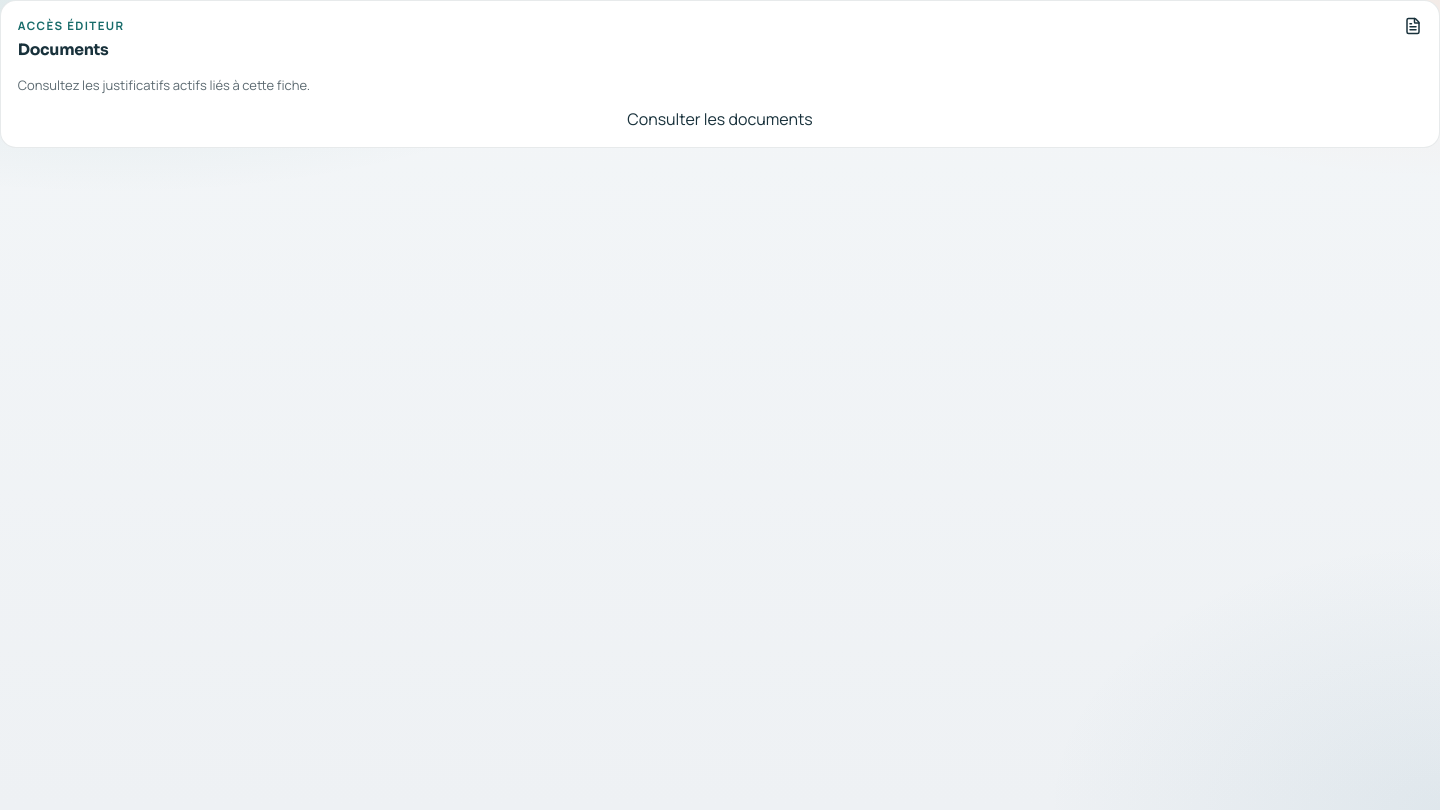
Test: ObjectDocumentsCard › affiche seulement après le verdict objet, puis charge la modale et ferme avec Échap
The width and height of the screenshot is (1440, 810).
Later steps or results of the test are not shown.
Click the button "Consulter les documents" at (720, 119), box [18,107,1422,131]
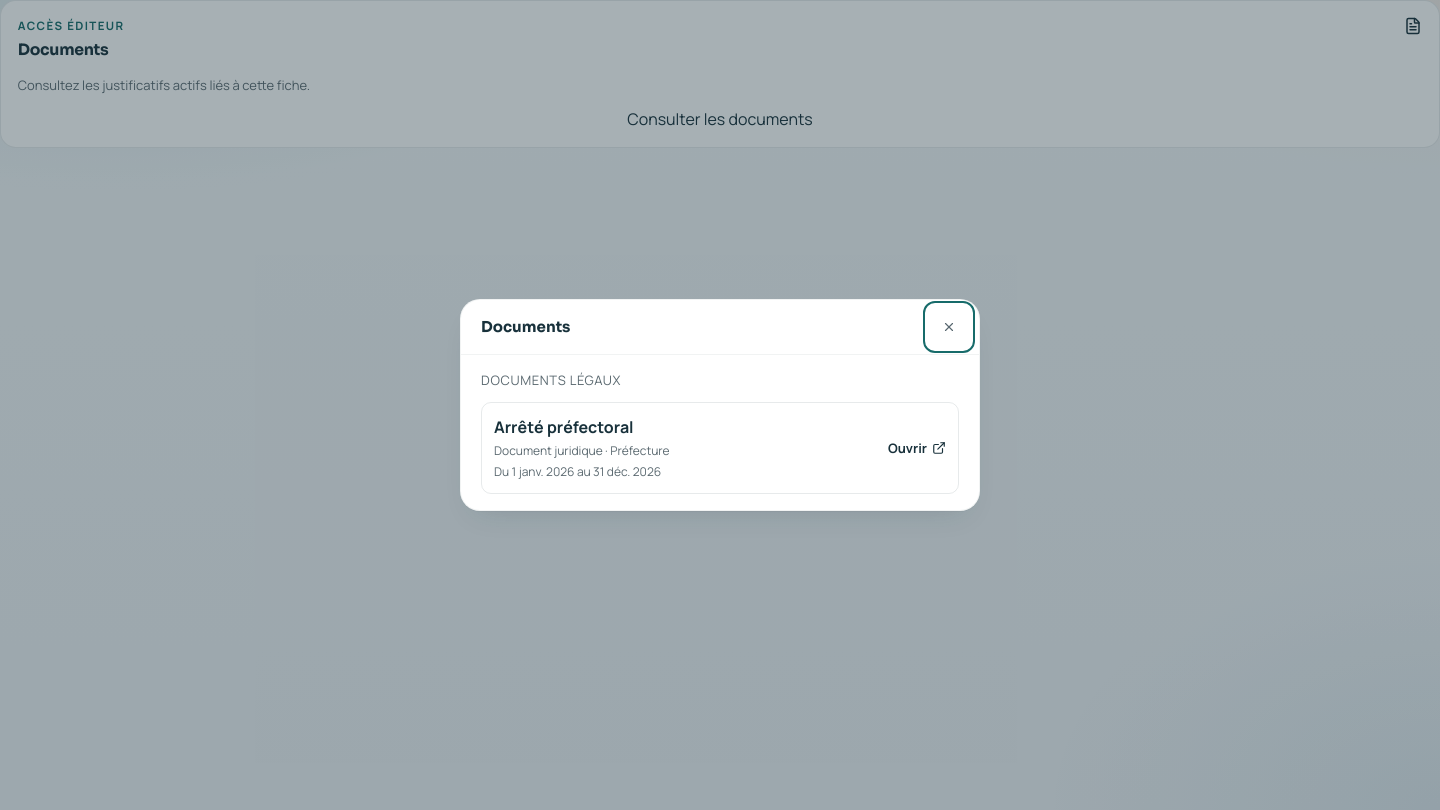
Check: the heading "Documents légaux" is shown, box [481,371,621,389]
Press Escape in the dialog, box [460,299,980,511]
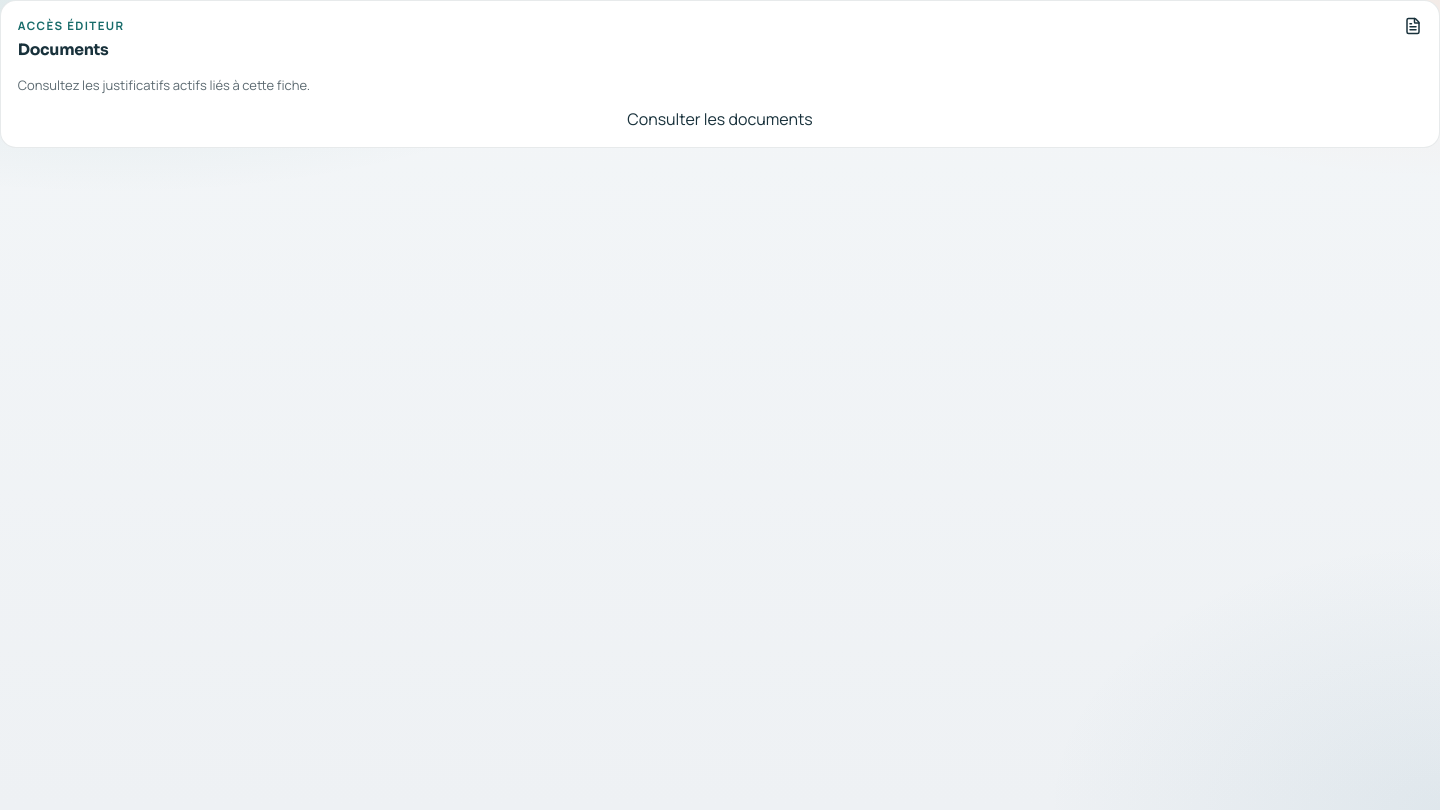
Check: the dialog is gone
